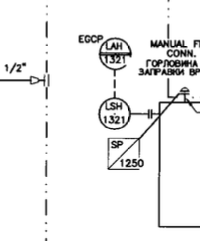Instrument-offset: (94, 93, 133, 135), (97, 35, 133, 76)
